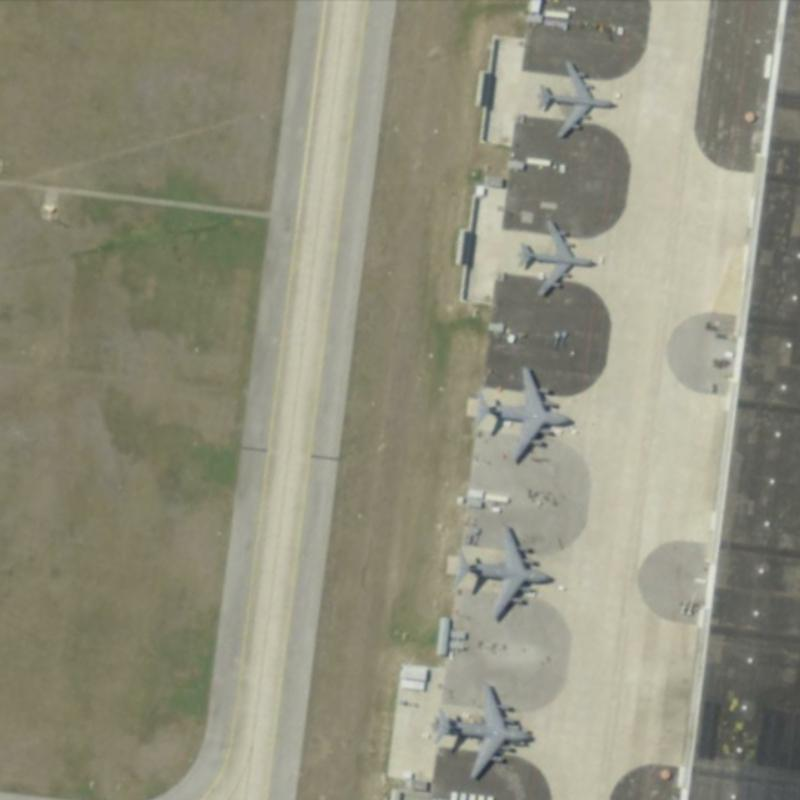A14: (511, 209, 598, 297), (532, 53, 616, 141)
A3: (425, 673, 538, 784), (448, 515, 558, 622), (464, 360, 575, 465)
